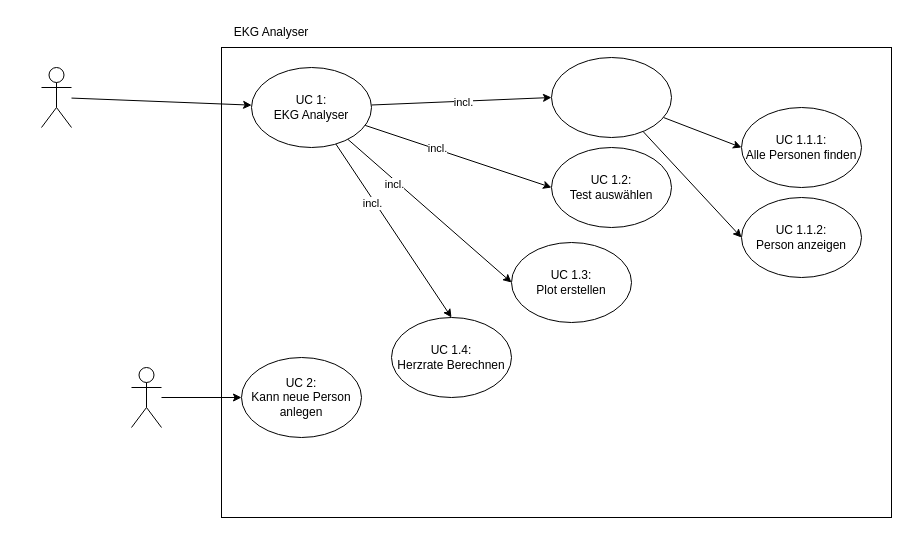
Image size: 909x535. Some labels were removed from this diagram. The shapes that lost their labels are listed below. From the top down, each one's box as (x1, y1, x2, y2) in pixels, then its label:
(40, 66, 72, 128): Diagnostiker:in
(550, 56, 672, 138): UC 1.1: Person auswählen
(130, 366, 162, 428): Admin
